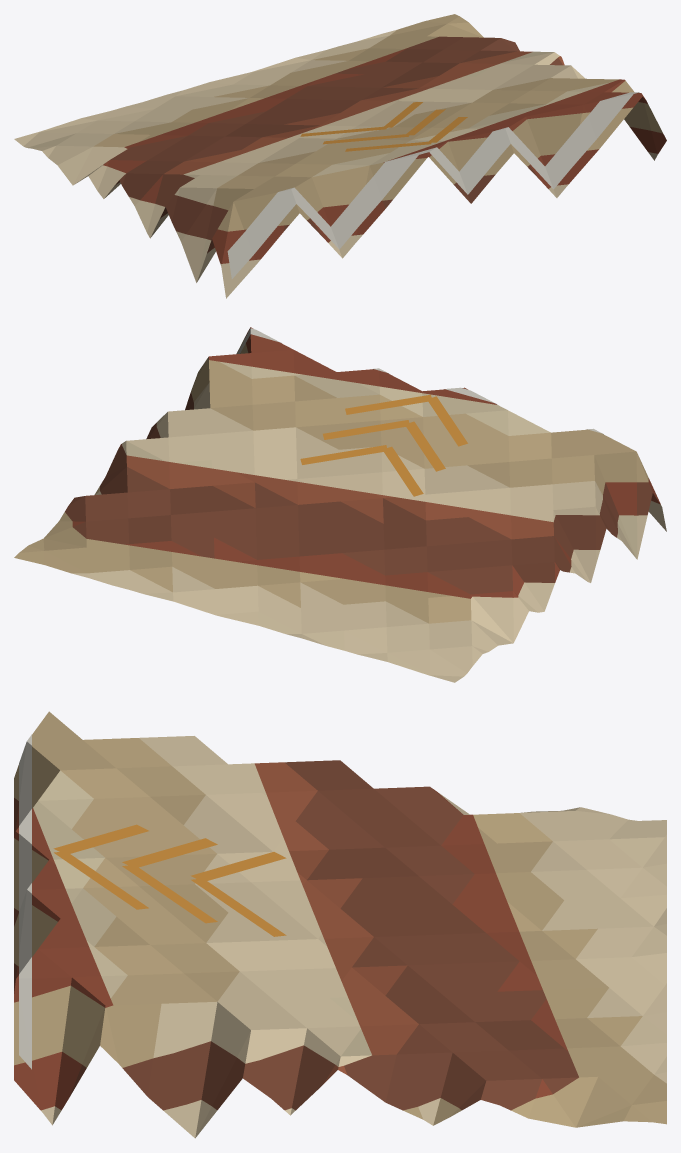
File: dam_domes_kicker.glb
The picture shows the model from 3 angles, top to bottom: view 1: azimuth 30°, elevation 25°; view 2: azimuth 150°, elevation 25°; view 3: azimuth 270°, elevation 25°; orthographic projection. The views are drawn at different scales.
Visible parts, largest first — view 1: dam_domes_kicker; view 2: dam_domes_kicker; view 3: dam_domes_kicker.
Part boxes in pixels (x1=…): dam_domes_kicker: x1=14, y1=14, x2=666, y2=298; dam_domes_kicker: x1=14, y1=327, x2=666, y2=682; dam_domes_kicker: x1=14, y1=711, x2=666, y2=1138.
Size of the model in its own units: 24 by 5.74 by 20.
